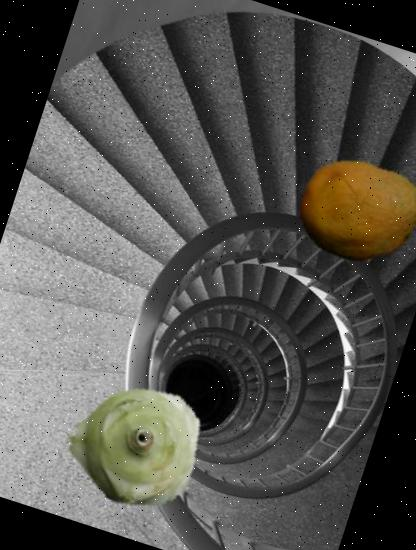Kohlrabi: (49, 358, 219, 528)
Papaya: (285, 135, 416, 286)
